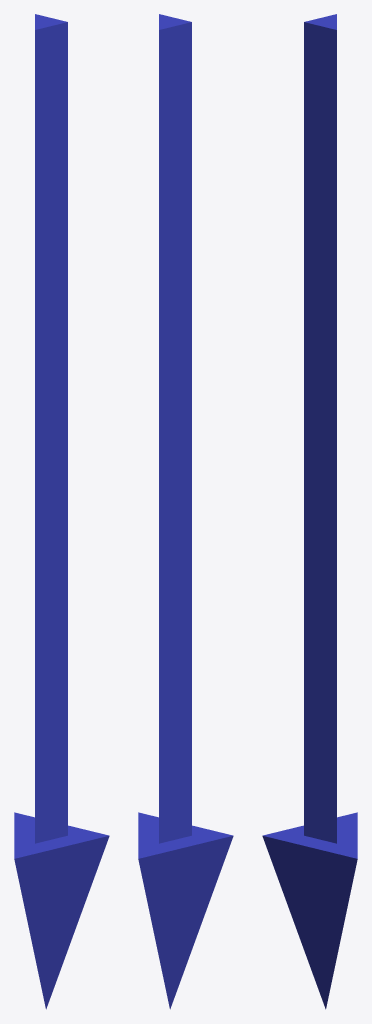
File: arrowUp.obj
3 renders of one model, left to right at view 1: azimuth 90°, elevation 25°; view 2: azimuth 210°, elevation 25°; view 3: azimuth 270°, elevation 25°, orthographic.
Visible parts, largest first — view 1: Cylinder; view 2: Cylinder; view 3: Cylinder.
Boxes of the visible parts, box(x1,y1,x2,y2) form: Cylinder: box(14, 14, 109, 1009); Cylinder: box(138, 14, 233, 1009); Cylinder: box(262, 14, 357, 1009).
Bounding box in the file's own units: 0.1719 × 1.7 × 0.1489.
Materials: 1 (1 with a texture image).
